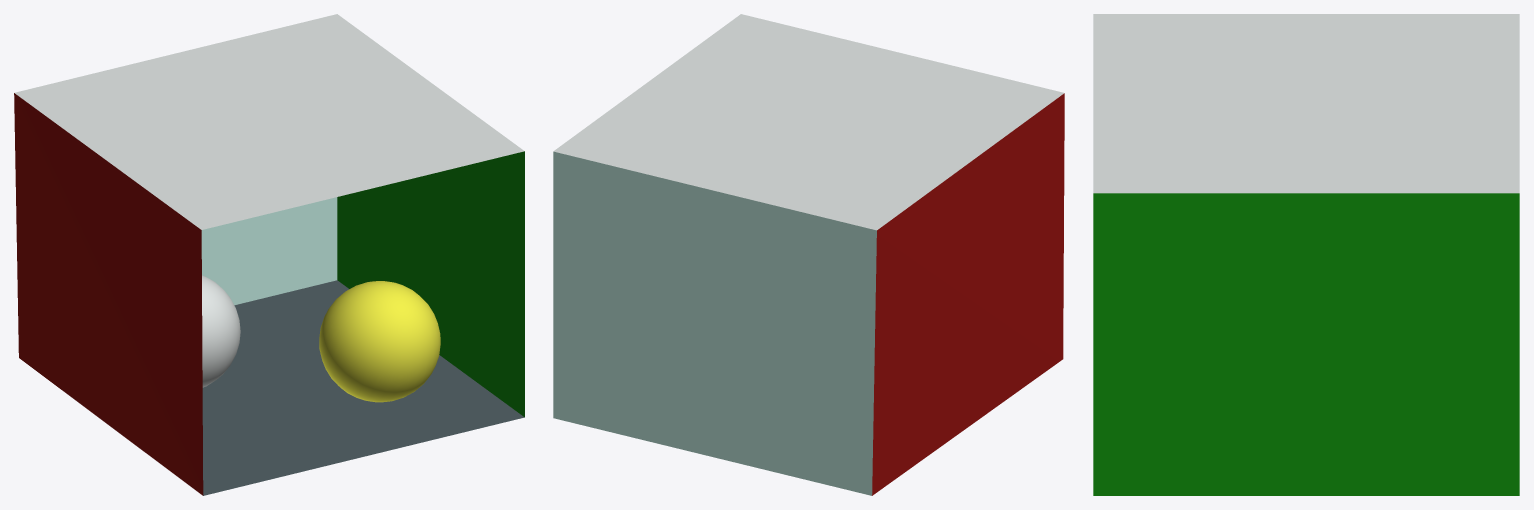
Rendered from CornellBox.obj.
3 renders of one model, left to right at view 1: azimuth 30°, elevation 25°; view 2: azimuth 150°, elevation 25°; view 3: azimuth 270°, elevation 25°, orthographic. The views are drawn at different scales.
Visible parts, largest first — view 1: g_ceiling_ceiling, g_leftWall_leftWall, g_floor_floor, g_rightWall_rightWall, GeoSphere002, g_backWall_backWall, GeoSphere001; view 2: g_backWall_backWall, g_ceiling_ceiling, g_leftWall_leftWall; view 3: g_rightWall_rightWall, g_ceiling_ceiling.
Boxes of the visible parts, x1,y1,x2,y2 form: g_ceiling_ceiling: (14,14,524,229); g_leftWall_leftWall: (14,93,203,495); g_floor_floor: (202,280,524,495); g_rightWall_rightWall: (337,151,524,417); GeoSphere002: (319,281,440,402); g_backWall_backWall: (201,197,337,305); GeoSphere001: (202,275,240,387); g_backWall_backWall: (553,151,876,495); g_ceiling_ceiling: (553,14,1064,230); g_leftWall_leftWall: (872,93,1064,495); g_rightWall_rightWall: (1093,193,1519,495); g_ceiling_ceiling: (1093,14,1519,193).
Bounding box in the file's own units: 2.02 × 1.59 × 2.03.
Materials: 8 (8 with a texture image).
